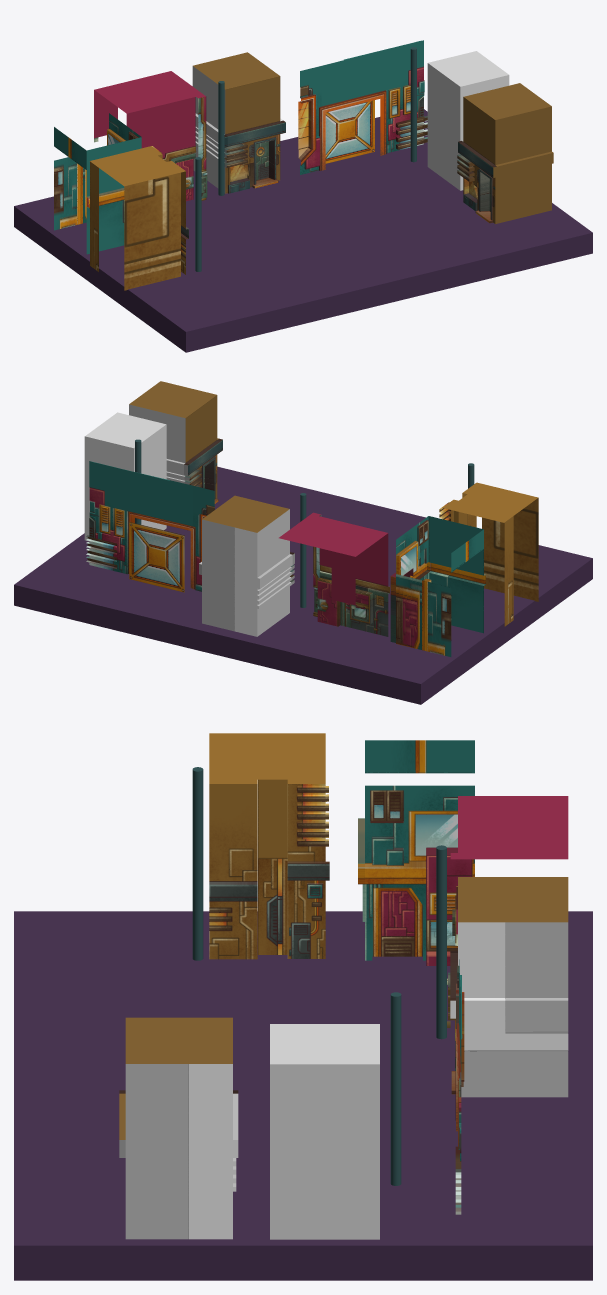
File: Hacker Map.fbx
The picture shows the model from 3 angles, top to bottom: view 1: azimuth 30°, elevation 25°; view 2: azimuth 150°, elevation 25°; view 3: azimuth 270°, elevation 25°; orthographic projection. The views are drawn at different scales.
Parts seen in each view (by area): view 1: Floor, F1, R1, F2, L1, F3, L2, R2, Tiang (×2), Tiang .001; view 2: Floor, F1, F2, L2, F3, L1, R1, R2, Tiang; view 3: Floor, L1, R1, F2, R2, L2, F3, Tiang (×2), Tiang .001, F1.
Part boxes in pixels (box(x1,y1,x2,y2)): Floor: box(14, 109, 592, 352); F1: box(298, 40, 427, 174); R1: box(457, 83, 553, 223); F2: box(192, 52, 285, 193); L1: box(90, 146, 188, 290); F3: box(94, 71, 207, 201); L2: box(54, 113, 141, 254); R2: box(427, 51, 509, 190); Tiang (×2): box(195, 81, 224, 271); Tiang .001: box(410, 47, 416, 162); Floor: box(14, 466, 592, 704); F1: box(86, 461, 214, 592); F2: box(199, 495, 294, 636); L2: box(390, 516, 485, 656); F3: box(279, 512, 389, 636); L1: box(439, 482, 538, 626); R1: box(129, 381, 222, 503); R2: box(84, 412, 166, 541); Tiang: box(300, 493, 306, 607); Floor: box(14, 911, 592, 1280); L1: box(209, 733, 329, 959); R1: box(119, 1017, 238, 1239); F2: box(448, 877, 568, 1097); R2: box(270, 1024, 379, 1239); L2: box(358, 740, 474, 965); F3: box(447, 796, 568, 1027); Tiang (×2): box(192, 767, 446, 1039); Tiang .001: box(390, 992, 401, 1185); F1: box(455, 959, 464, 1214).
Bounding box in the file's own units: 4137 × 1328 × 3000.
